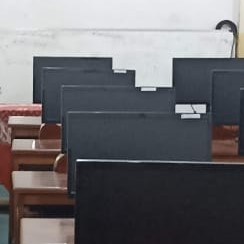monitor: (73, 159, 243, 241), (11, 62, 134, 171), (59, 84, 175, 152), (41, 66, 135, 124), (172, 58, 244, 122), (33, 56, 113, 104)
